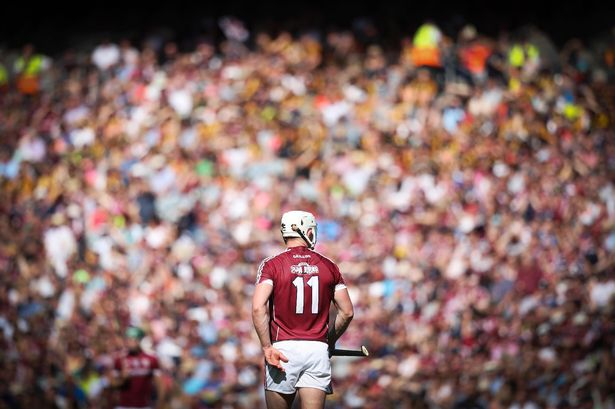player: (234, 206, 361, 406)
